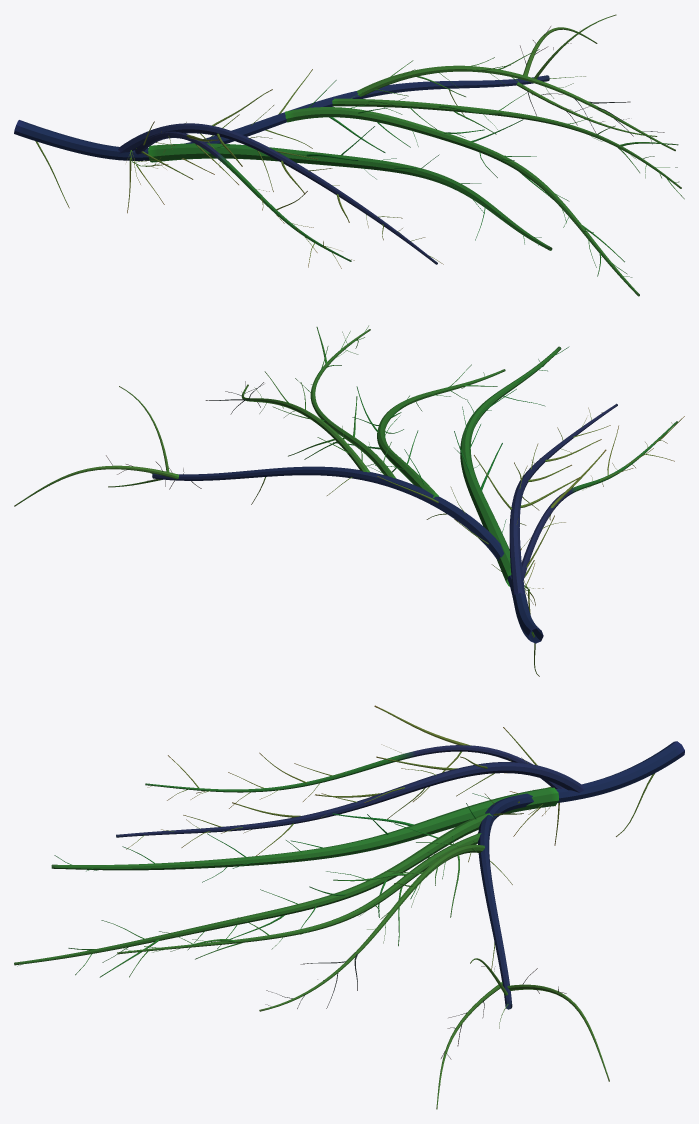
The model's file is ufo_rm_side.obj.
The picture shows the model from 3 angles, top to bottom: view 1: azimuth 30°, elevation 25°; view 2: azimuth 150°, elevation 25°; view 3: azimuth 270°, elevation 25°; orthographic projection. The views are drawn at different scales.
Bounding box in the file's own units: 2.07 × 0.5008 × 1.92.
